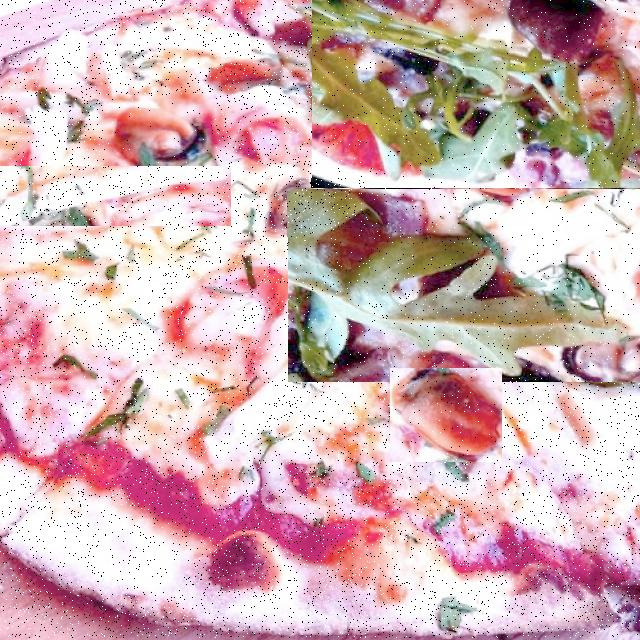Cheese: (47, 266, 228, 424)
Mushrooms: (390, 368, 502, 462), (104, 95, 215, 174), (266, 178, 364, 237)
Onions: (0, 166, 231, 226)
Pizza: (0, 0, 640, 638)
Rucola: (288, 189, 640, 382), (312, 0, 640, 188)
